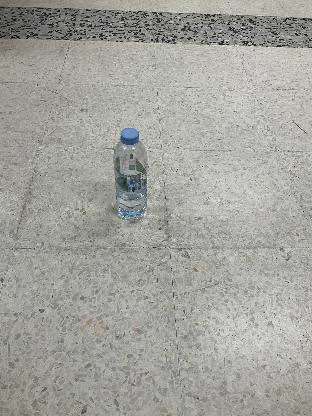Plastic Bottle: (114, 128, 148, 222)
